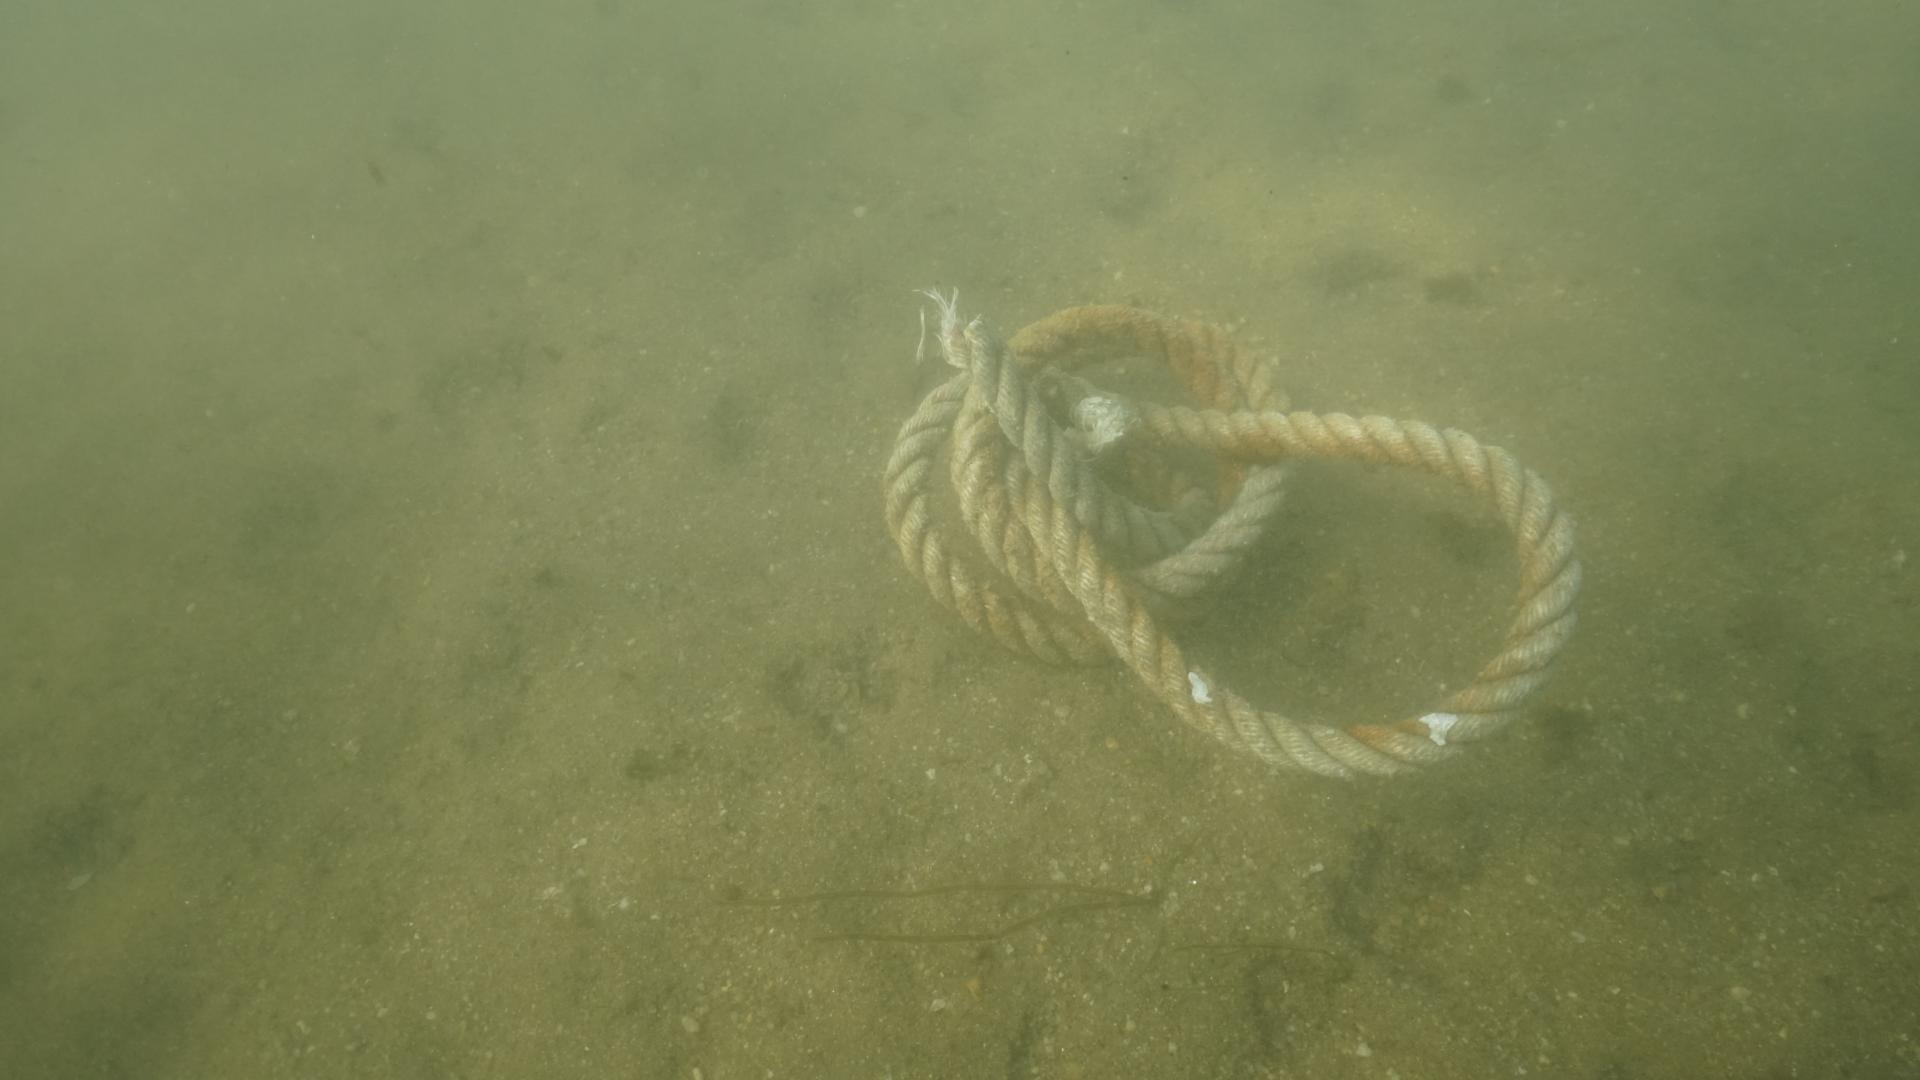bundle of ropes: (880, 298, 1592, 786)
